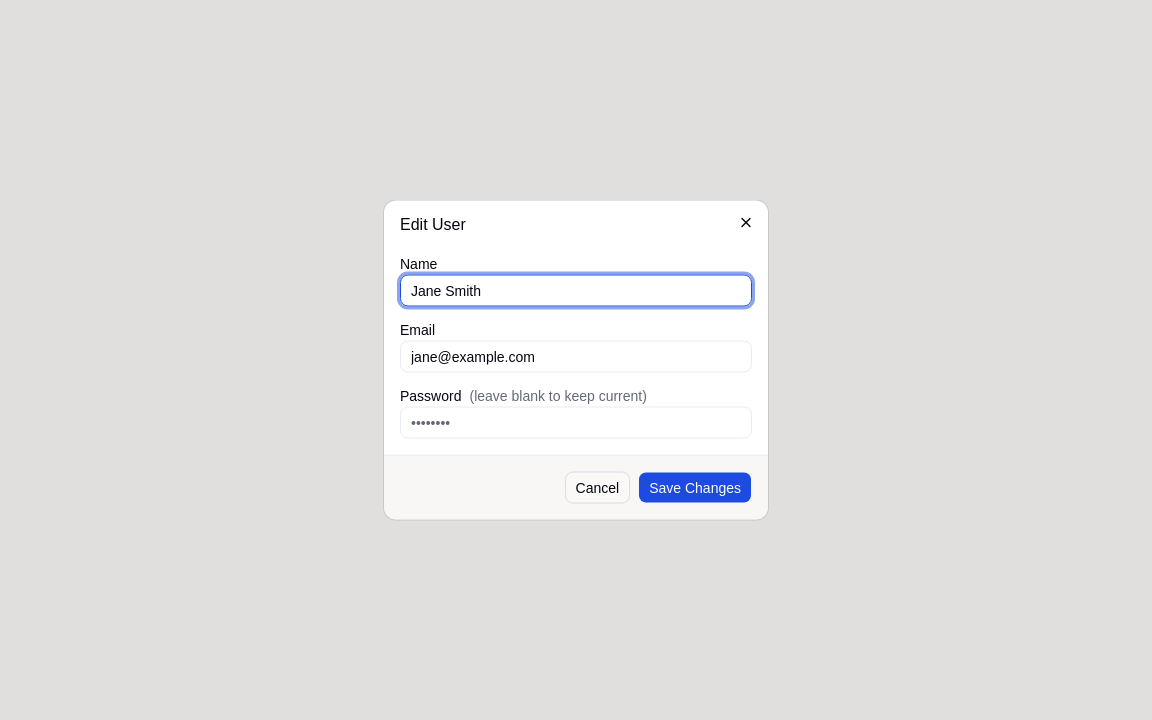
Test: UserFormDialog (edit) — submission › shows "Saving…" and disables the button while pending
Click the button "Save Changes": (695, 488) [638, 472, 752, 504]
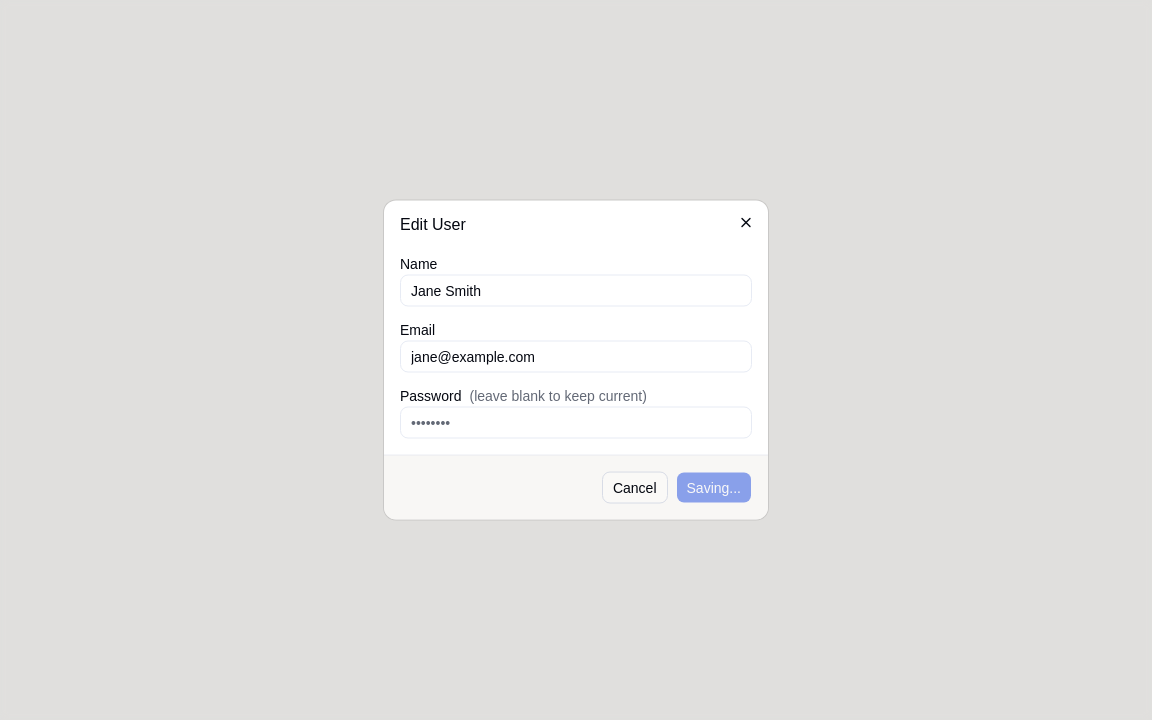
Expected: the button "Saving..." is disabled, [676, 472, 752, 504]
